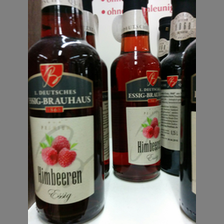vinegar: (28, 1, 106, 224), (108, 1, 166, 181)
